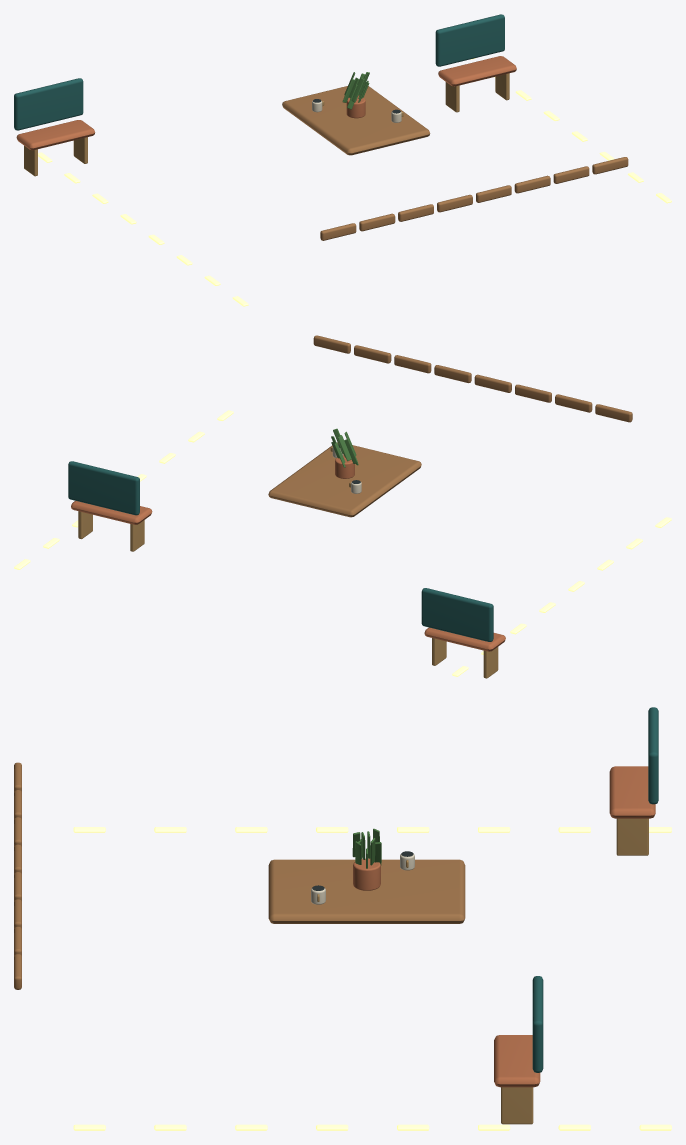
The model's file is commons-details.glb.
3 views of the same model, one above another, from view 1: azimuth 30°, elevation 25°; view 2: azimuth 150°, elevation 25°; view 3: azimuth 270°, elevation 25° (orthographic). The views are drawn at different scales.
Visible parts, largest first — view 1: Garden table, West garden bench backrest, East garden bench backrest, East garden bench upholstered seat, West garden bench upholstered seat; view 2: Garden table, West garden bench backrest, East garden bench backrest, West garden bench upholstered seat, East garden bench upholstered seat; view 3: Garden table, West garden bench upholstered seat, East garden bench upholstered seat, West garden bench brass leg.001, East garden bench brass leg.001, East garden bench backrest, West garden bench backrest, Commons table plant vessel.
Boxes of the visible parts, x1,y1,x2,y2 form: Garden table: (282,86,430,155); West garden bench backrest: (14,78,83,130); East garden bench backrest: (435,14,504,66); East garden bench upholstered seat: (438,56,516,86); West garden bench upholstered seat: (16,120,95,150); Garden table: (268,442,421,517); West garden bench backrest: (421,588,493,641); East garden bench backrest: (68,461,139,515); West garden bench upholstered seat: (424,627,505,651); East garden bench upholstered seat: (71,500,152,524); Garden table: (268,859,465,923); West garden bench upholstered seat: (609,766,655,818); East garden bench upholstered seat: (494,1035,540,1087); West garden bench brass leg.001: (616,818,648,855); East garden bench brass leg.001: (501,1087,533,1124); East garden bench backrest: (532,976,543,1072); West garden bench backrest: (648,707,658,804); Commons table plant vessel: (353,858,380,890).
Size of the model in its own units: 6.58 by 1.51 by 5.69.
